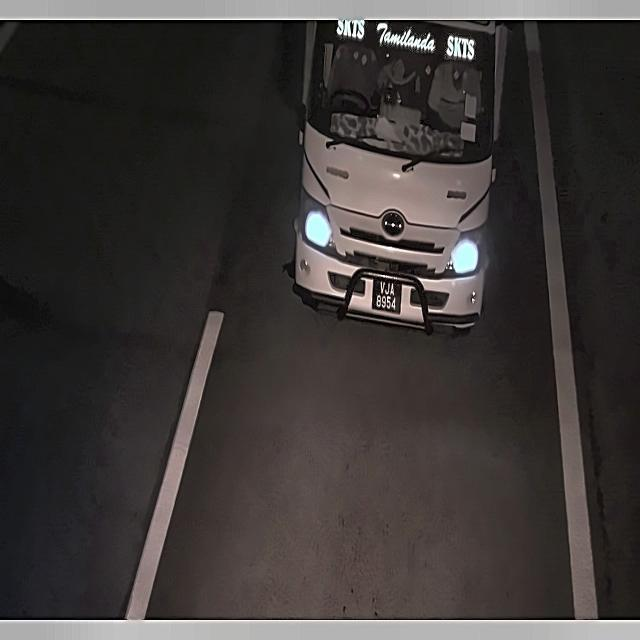car: (368, 271, 406, 322)
